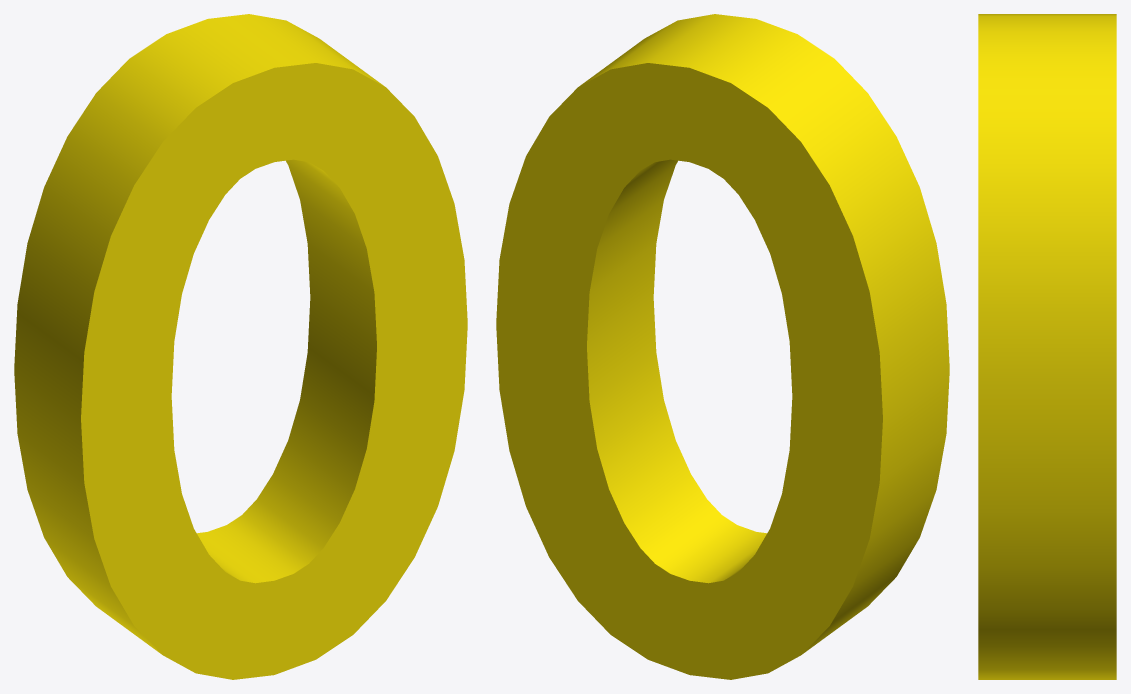
The model's file is Zero_v0001.fbx.
3 renders of one model, left to right at view 1: azimuth 30°, elevation 25°; view 2: azimuth 150°, elevation 25°; view 3: azimuth 270°, elevation 25°, orthographic. The views are drawn at different scales.
Parts seen in each view (by area): view 1: polySurface1; view 2: polySurface1; view 3: polySurface1.
Part boxes in pixels (box(x1,y1,x2,y2)): polySurface1: box(14, 14, 467, 679); polySurface1: box(496, 14, 949, 679); polySurface1: box(978, 14, 1116, 679).
Size of the model in its own units: 8.36 by 12.54 by 2.5.
Materials: 1 (1 with a texture image).
